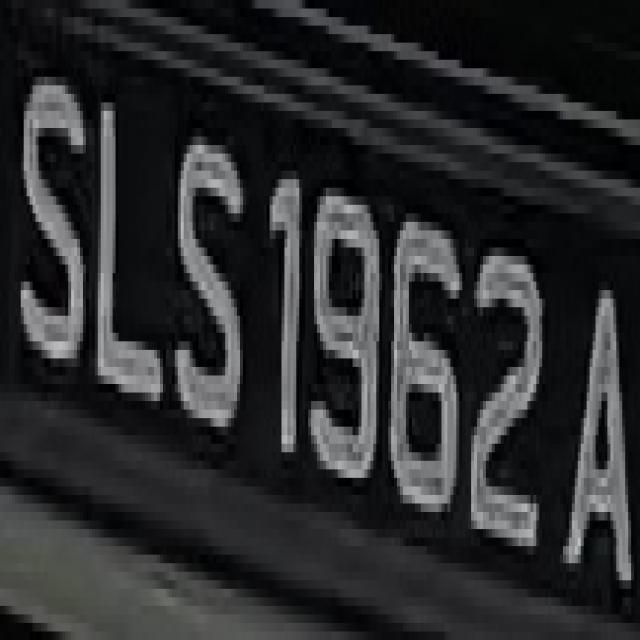1: (267, 145, 308, 469)
2: (471, 196, 548, 589)
6: (379, 188, 465, 538)
9: (305, 145, 385, 504)
A: (569, 256, 634, 631)
L: (74, 68, 163, 418)
S: (163, 137, 249, 452), (21, 51, 83, 376)
